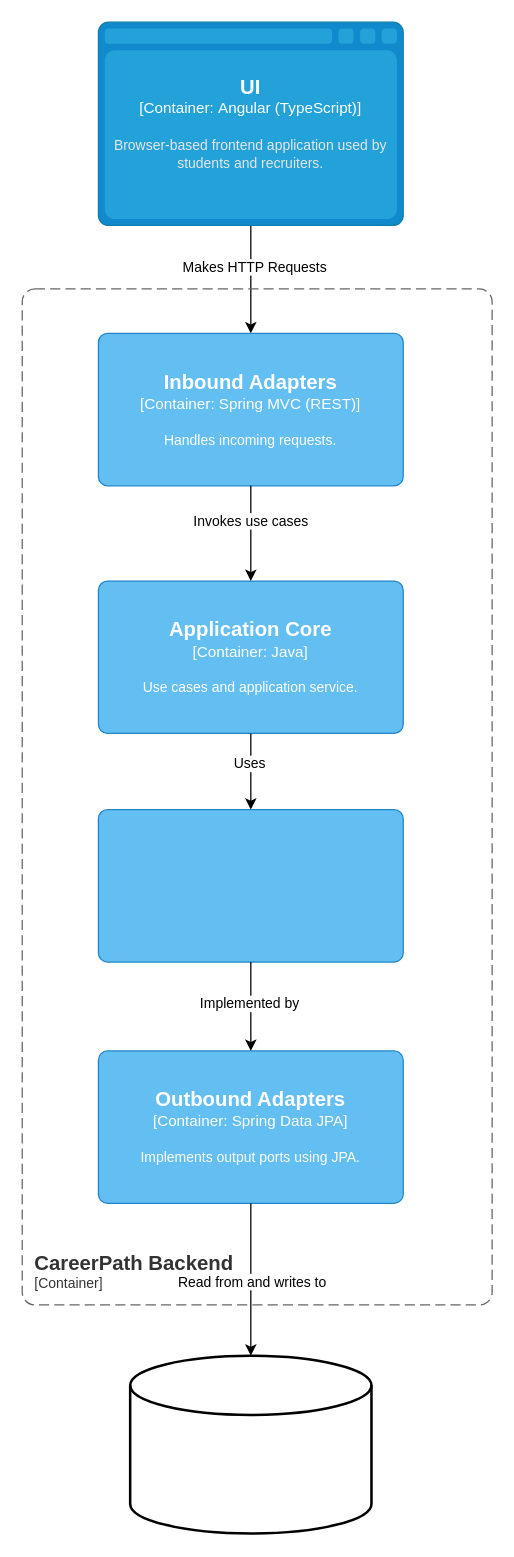
This 514x1557 diagram has some shape labels left out. The centre of each missing label's shape, as x and y in pixels:
"Database [Container: Postgres Database Schema]" belongs at (x=250, y=1444).
"Domain Model [Container: Java] Entities, Value Objects, and Domain ports." belongs at (x=250, y=885).
